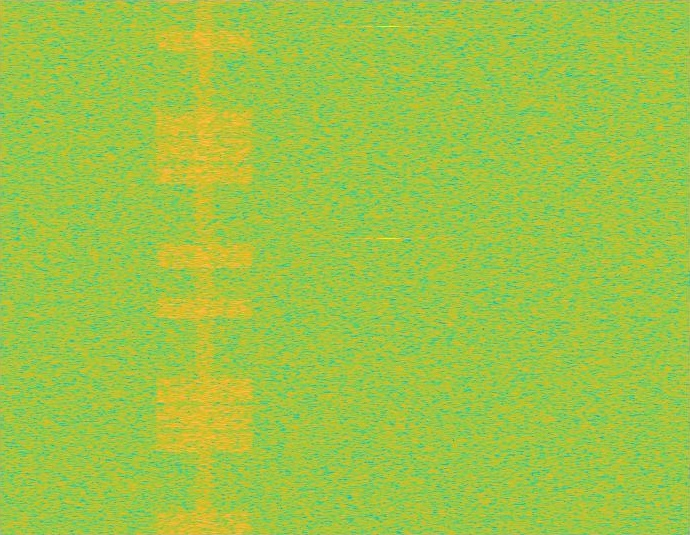DSSS: (193, 0, 216, 534)
LTE: (152, 0, 256, 534)
Radar: (382, 0, 395, 534)
